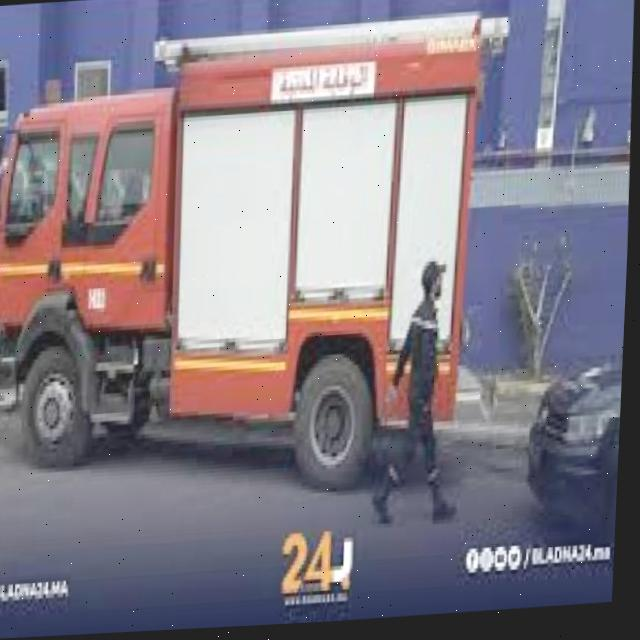emergency: (0, 10, 496, 499)
